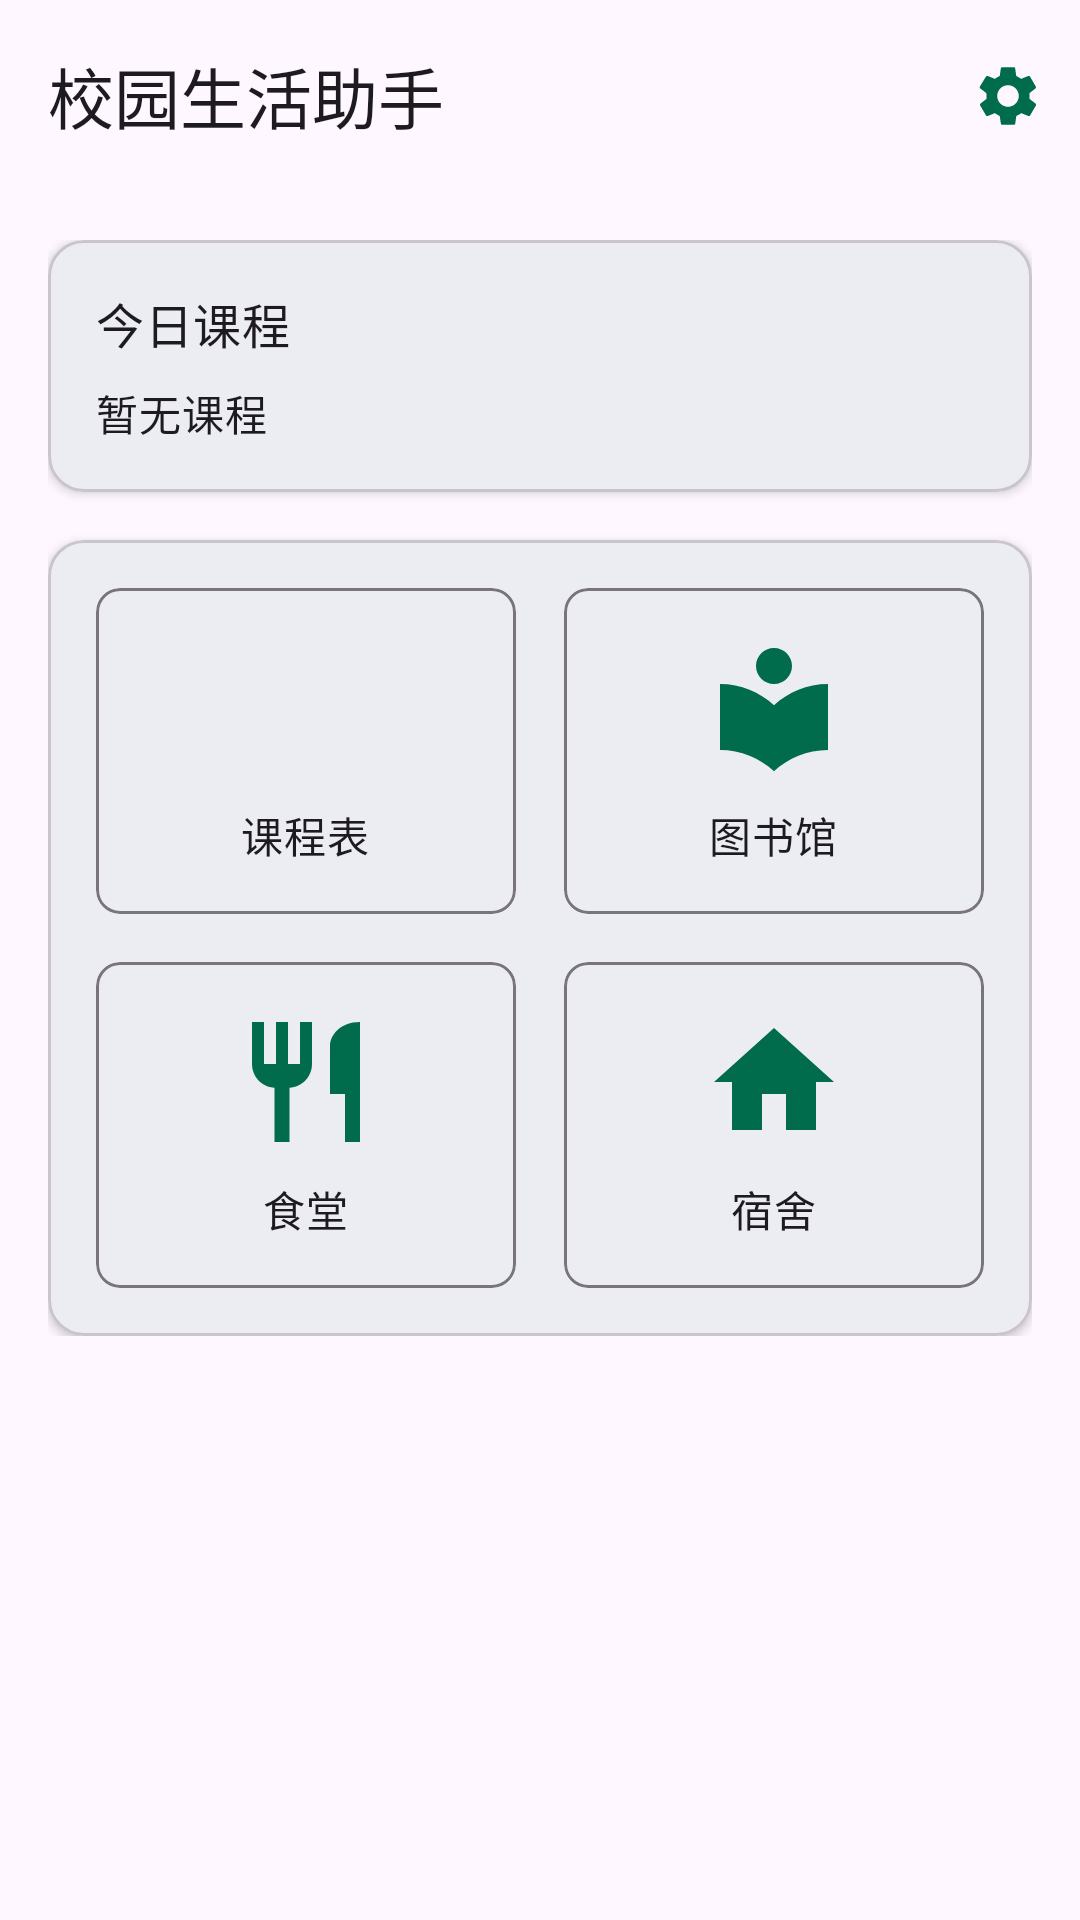

Icon bounding boxes for this 1080*1920 phone screenshot, format [x1, y1, x2, y2]:
canteen: [252, 1022, 360, 1142]
dormitory: [714, 1028, 834, 1130]
library: [720, 648, 828, 771]
